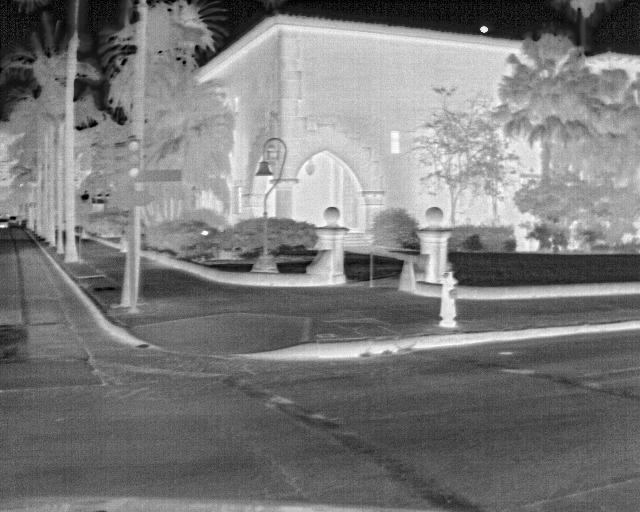car: (6, 214, 18, 225), (0, 217, 10, 229)
